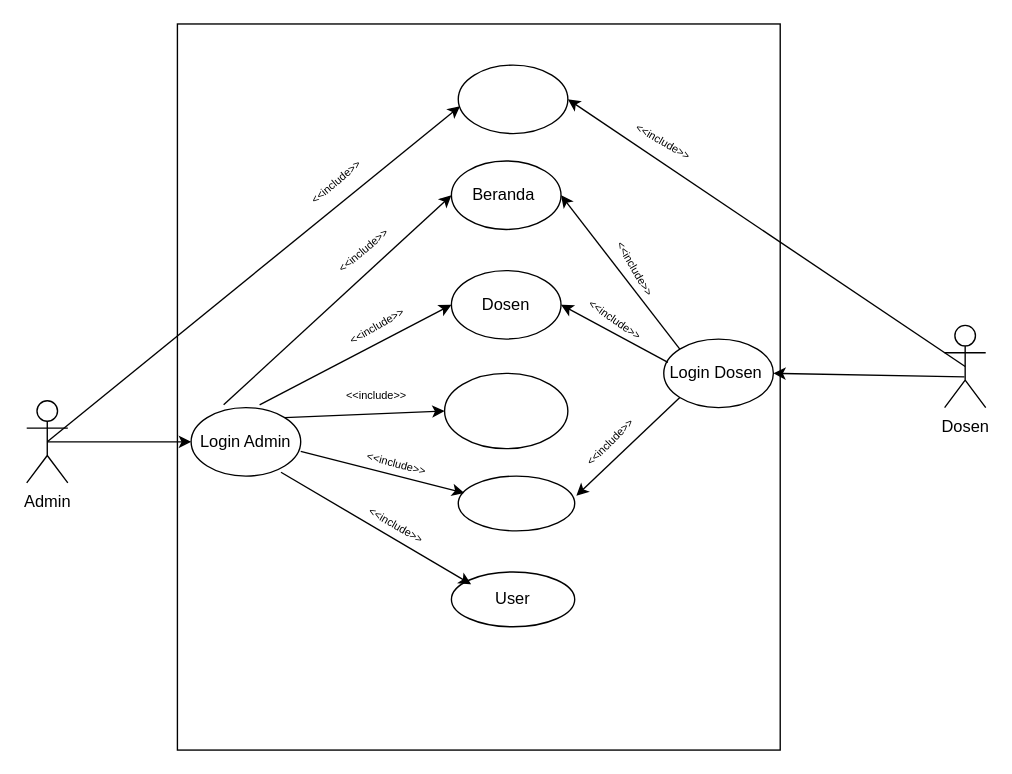
This 1012x774 diagram has some shape labels left out. Each missing label, with the box of its shape:
Jadwal: (457, 475, 575, 531)
Laboratorium: (443, 372, 568, 449)
logout: (457, 64, 568, 134)
